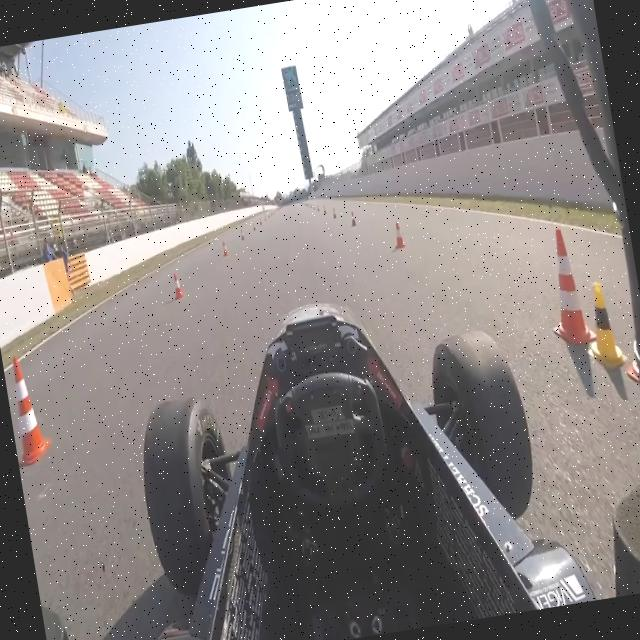large_orange_cone: (539, 223, 599, 349), (3, 352, 55, 466)
orange_cone: (392, 220, 406, 250), (172, 272, 184, 300)
yellow_cone: (576, 280, 630, 374)
